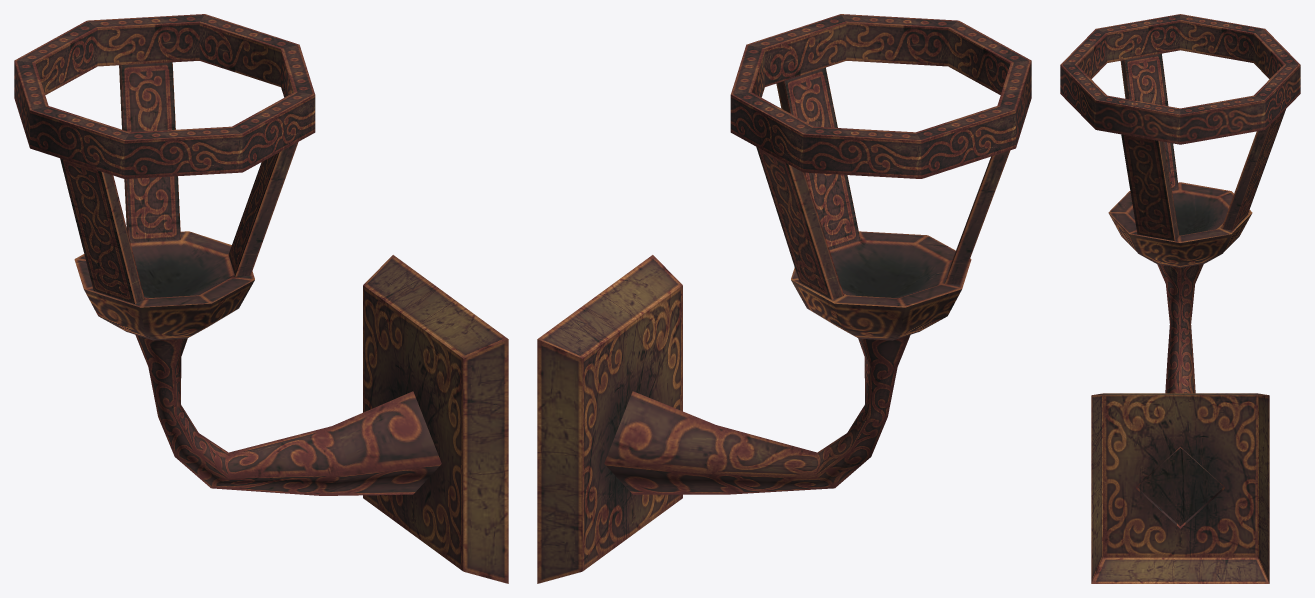
File: torch_01.fbx
3 views of the same model, side by side, from view 1: azimuth 30°, elevation 25°; view 2: azimuth 150°, elevation 25°; view 3: azimuth 270°, elevation 25° (orthographic). The views are drawn at different scales.
Parts seen in each view (by area): view 1: polySurface1; view 2: polySurface1; view 3: polySurface1.
Boxes of the visible parts, x1=… form: polySurface1: x1=14, y1=14, x2=508, y2=583; polySurface1: x1=537, y1=14, x2=1031, y2=583; polySurface1: x1=1060, y1=14, x2=1300, y2=583.
Bounding box in the file's own units: 5.23 × 6.34 × 3.35.
